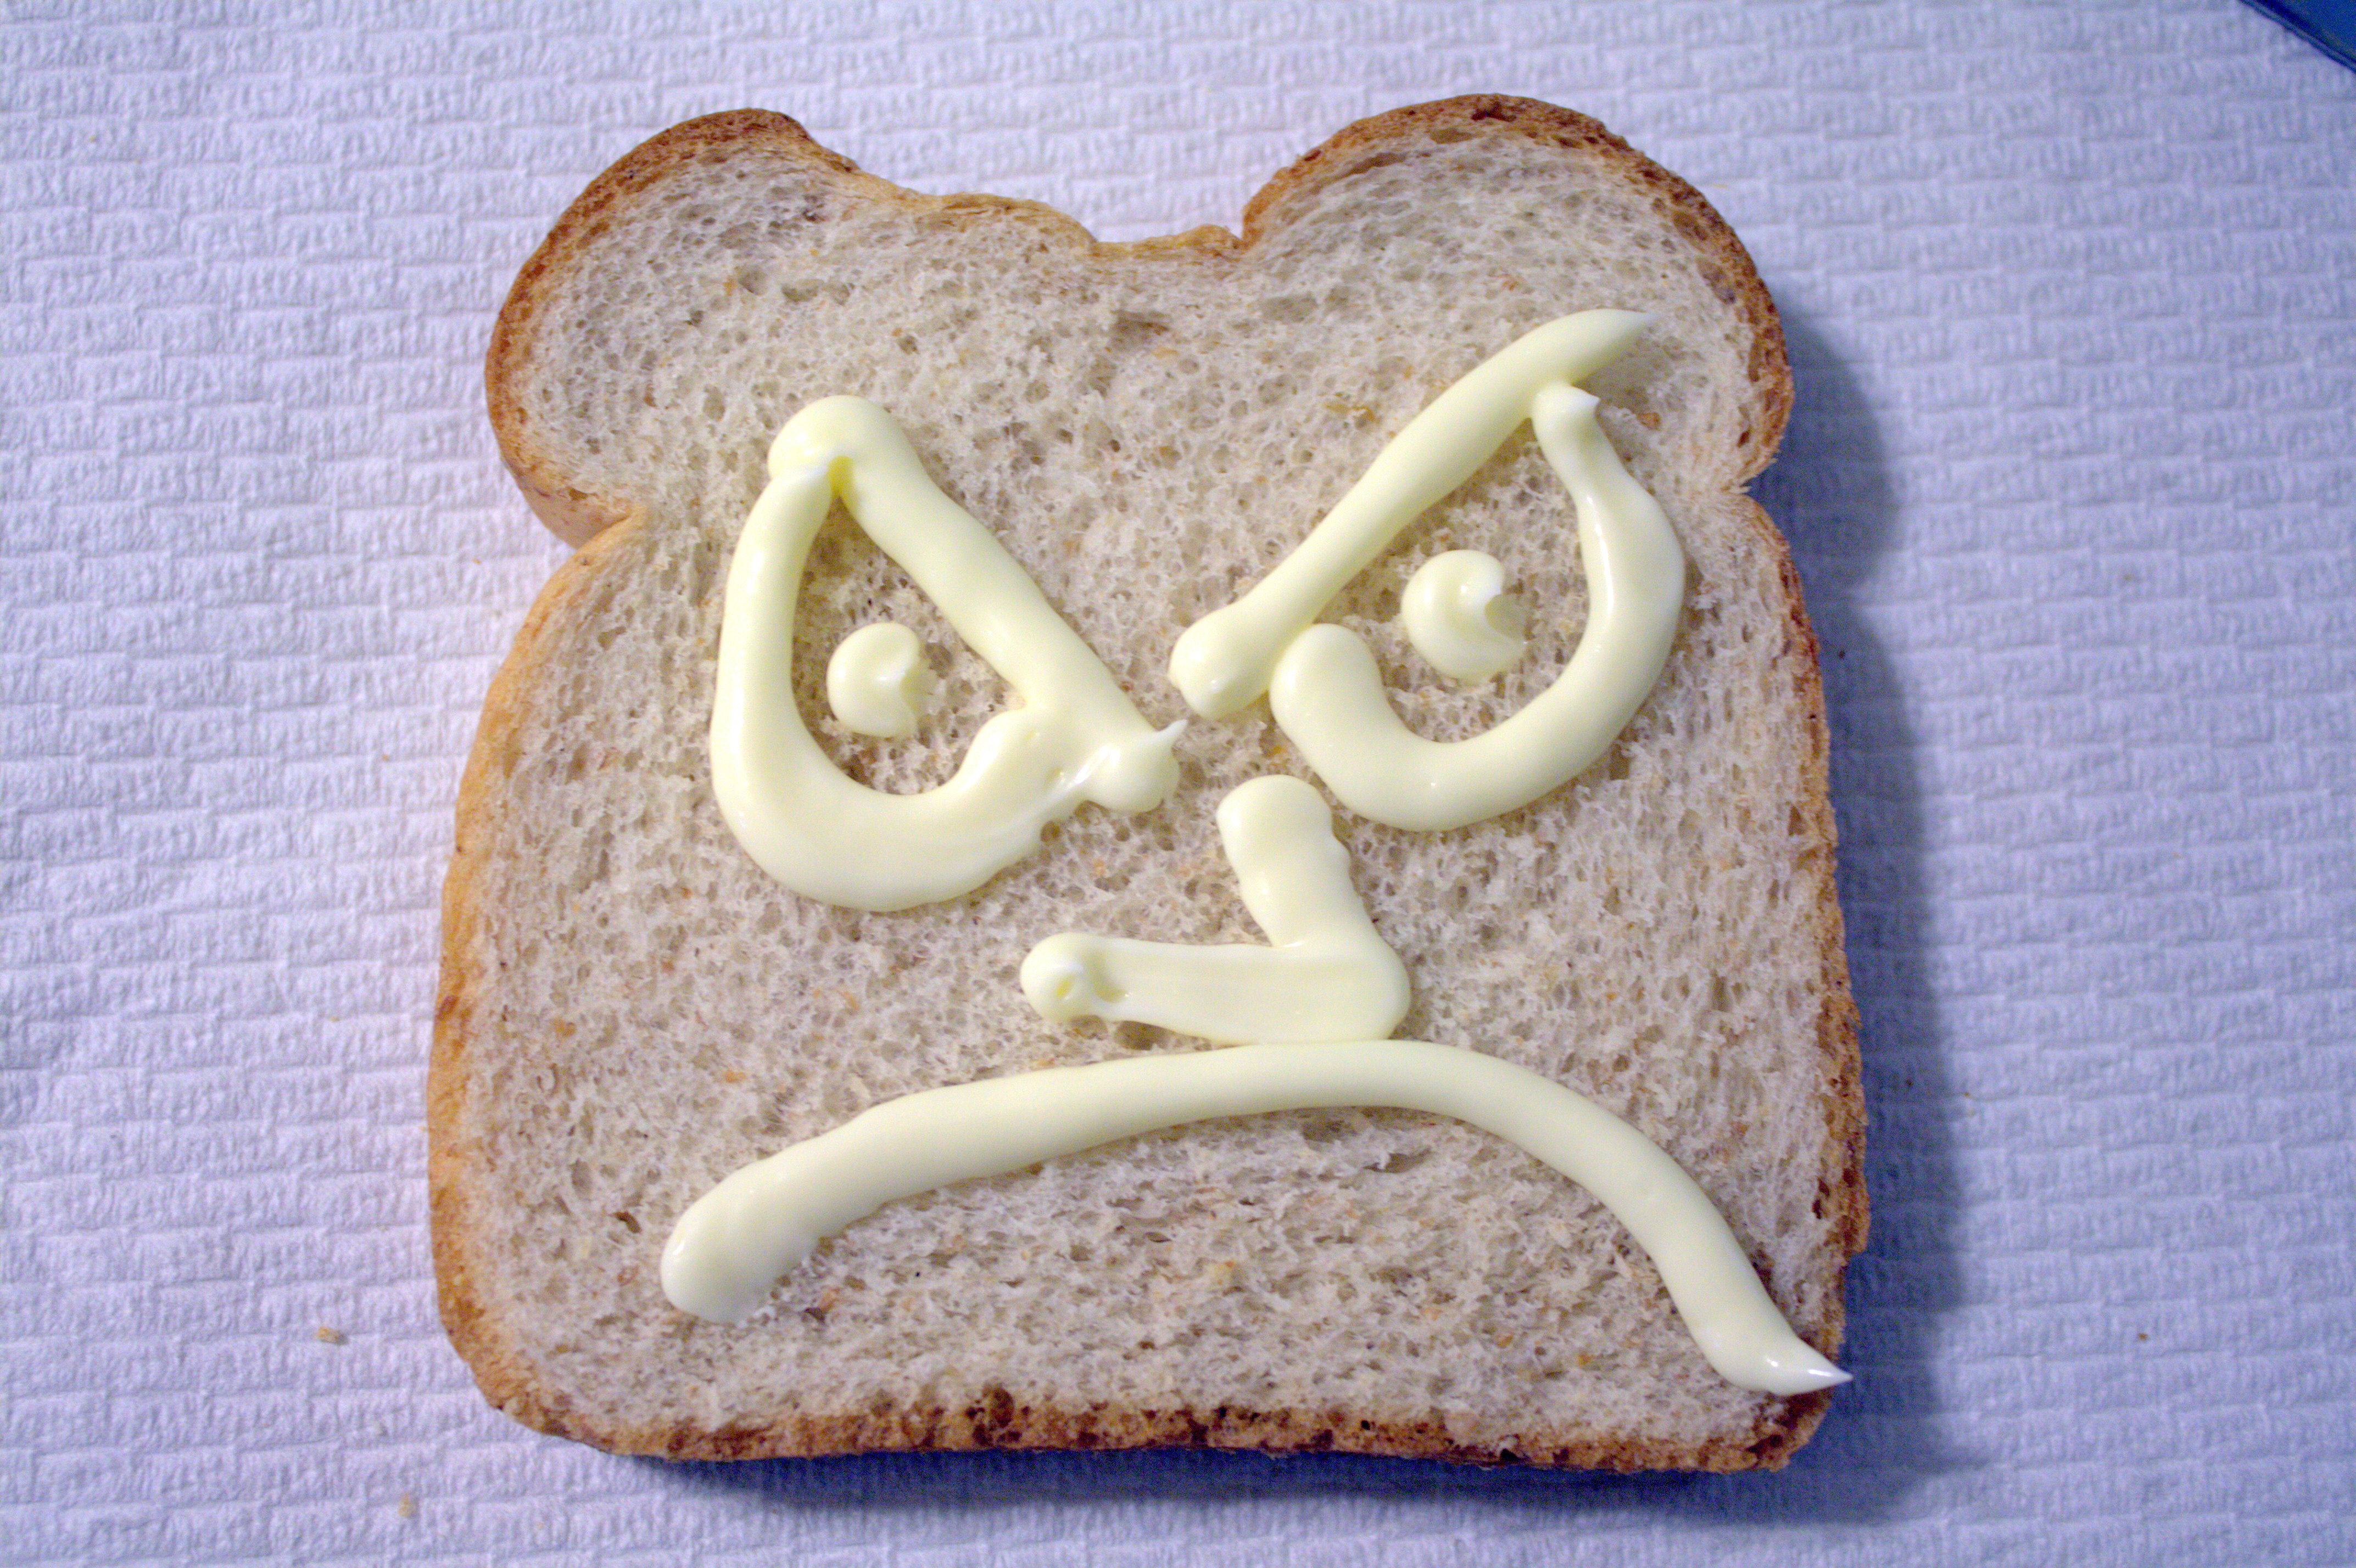slice of bread: (450, 105, 1854, 1486)
